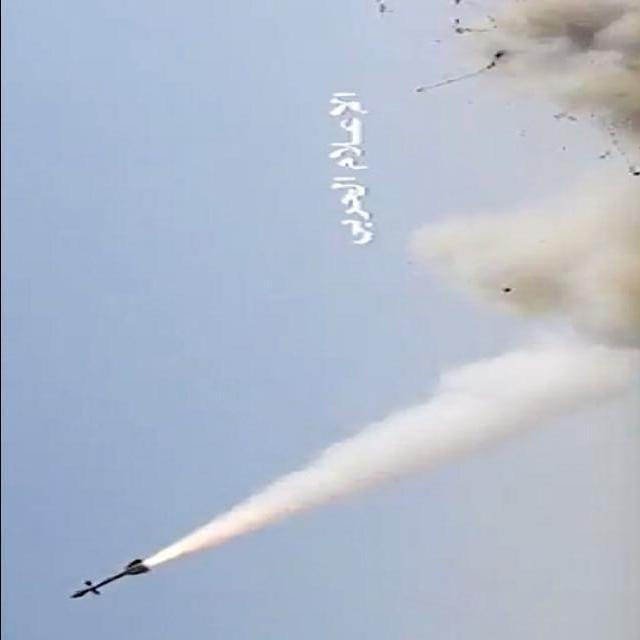missile: (70, 557, 151, 600)
